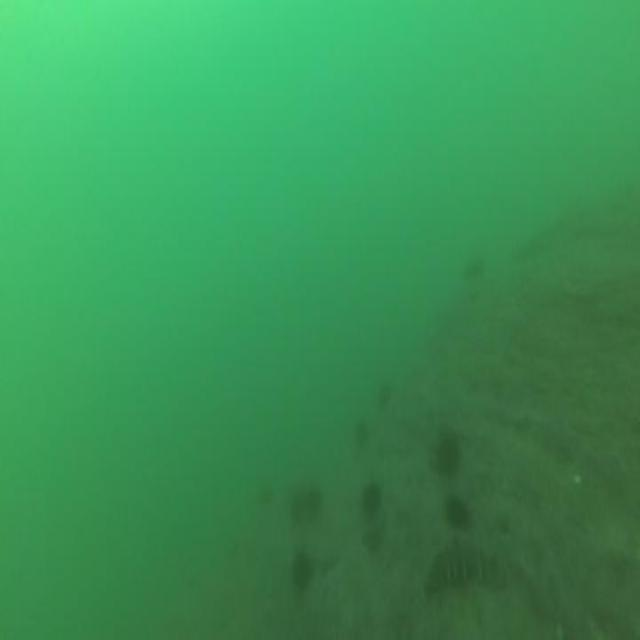echinus: (291, 482, 320, 518), (436, 442, 462, 479), (291, 548, 309, 590), (360, 480, 381, 516), (446, 499, 468, 528), (356, 417, 370, 446)
holothurian: (428, 546, 508, 598)
